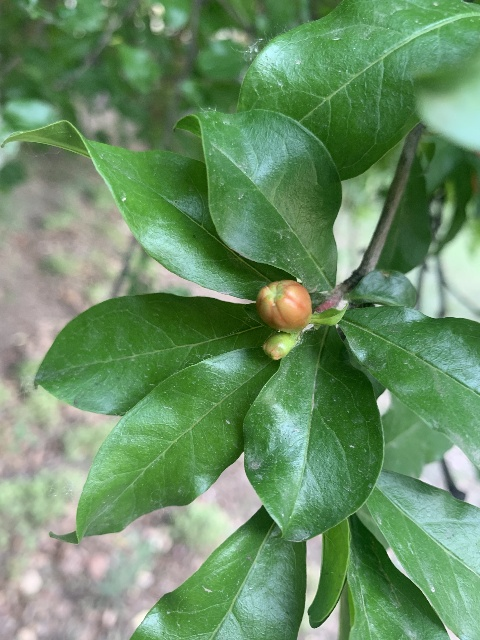bud: (256, 280, 310, 332), (263, 333, 298, 360)
